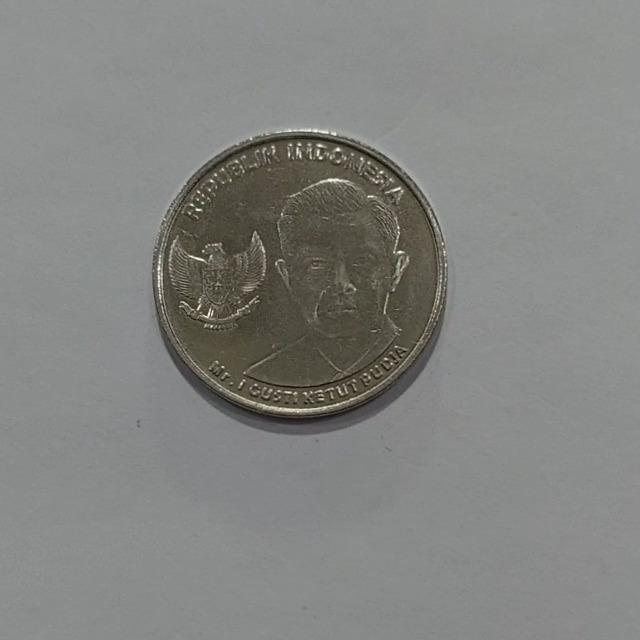Rp100: (151, 127, 449, 421), (236, 174, 413, 391)
